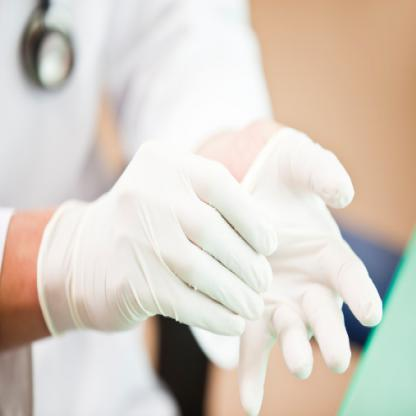with_gloves: (28, 118, 395, 415)
